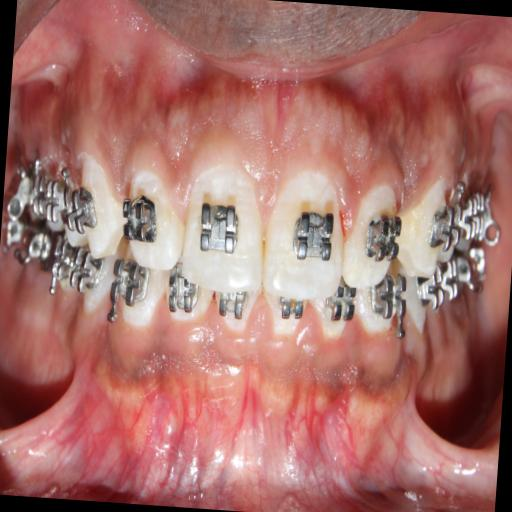correct_brace: (195, 194, 246, 260), (290, 198, 336, 267), (363, 210, 402, 268), (120, 188, 158, 246), (62, 180, 96, 242), (428, 200, 462, 255)
incorrect_brace: (340, 174, 403, 294), (122, 168, 187, 282)
